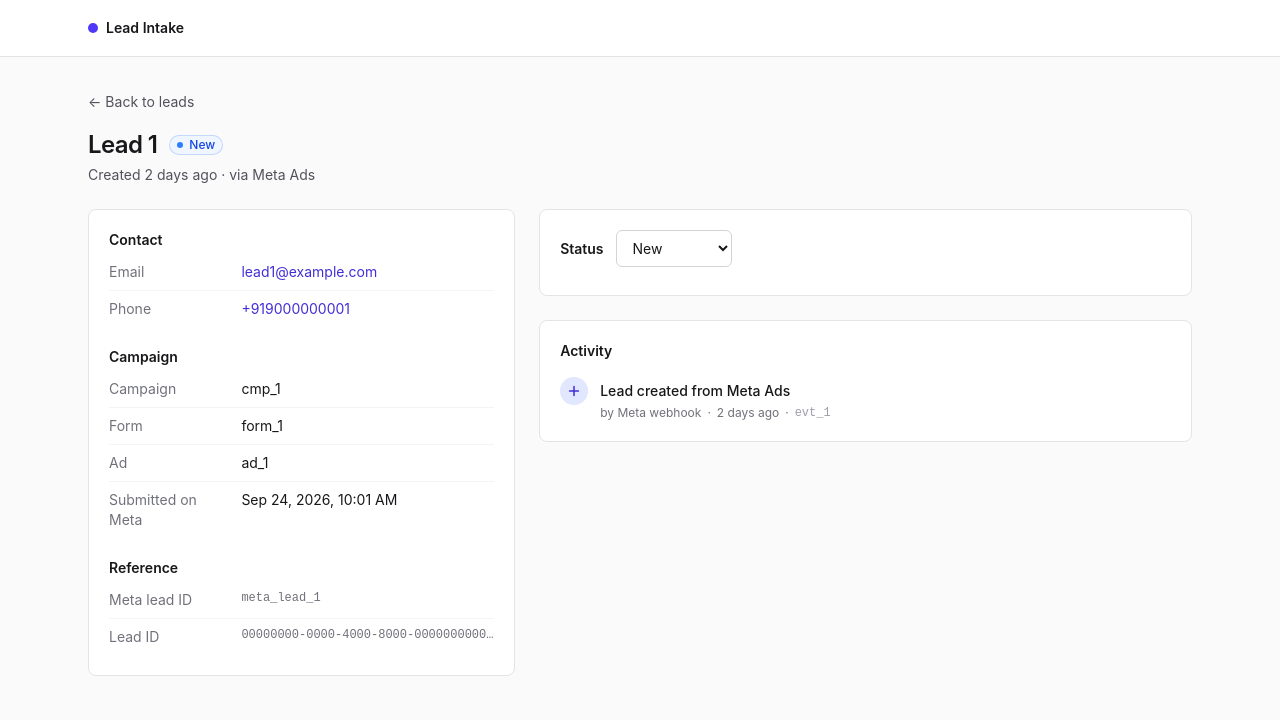
Test case: lead detail: status updates (server-authoritative) › reports a no-op when someone else already set that status, and shows the server state
This screenshot has width=1280, height=720.
Expected: the list named "Activity" is shown, [560, 377, 831, 420]
Select "Contacted" in the dropdown labelled "Status" at [674, 248], box [616, 230, 732, 267]
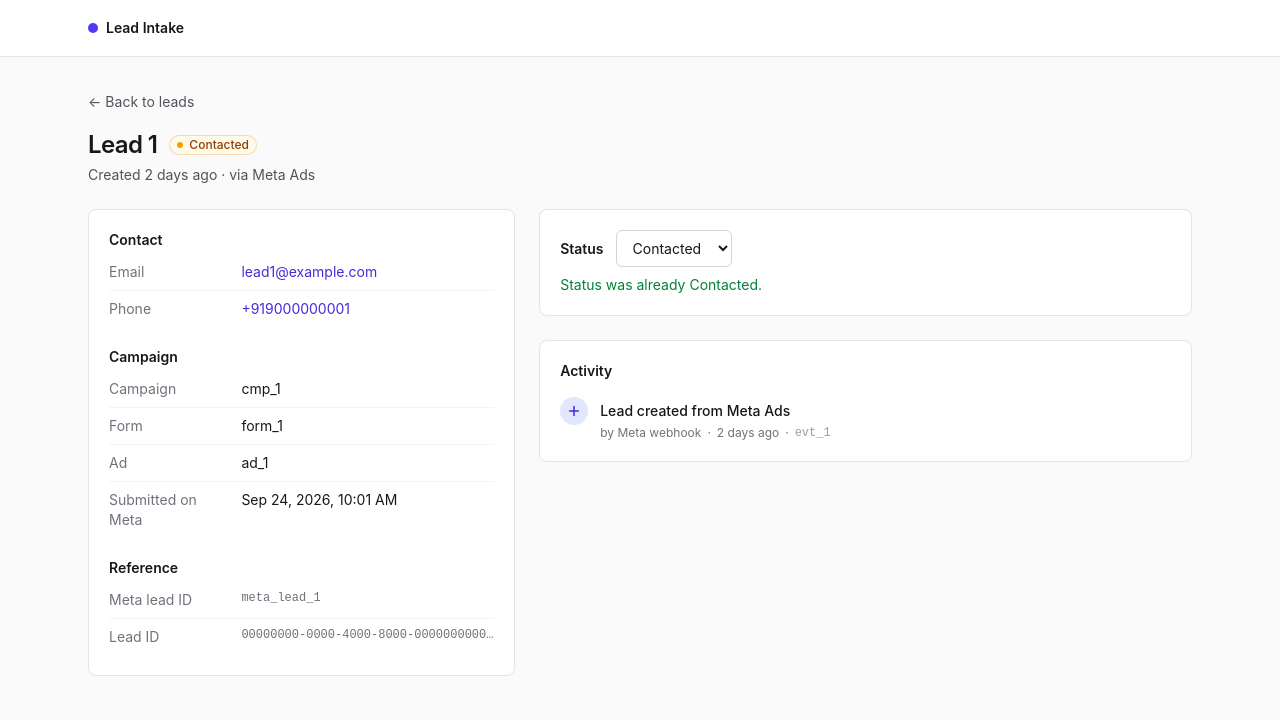
Expected: the number of list items is 1, [560, 397, 831, 440]
Expected: the text "Status was already Contacted." is shown, [560, 276, 762, 293]
